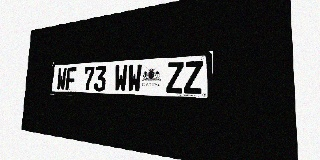3: (94, 66, 106, 91)
7: (83, 66, 95, 91)
F: (65, 67, 76, 91)
W: (127, 64, 142, 92), (114, 64, 128, 92), (56, 68, 67, 90)
Z: (184, 61, 203, 94), (166, 62, 184, 93)
